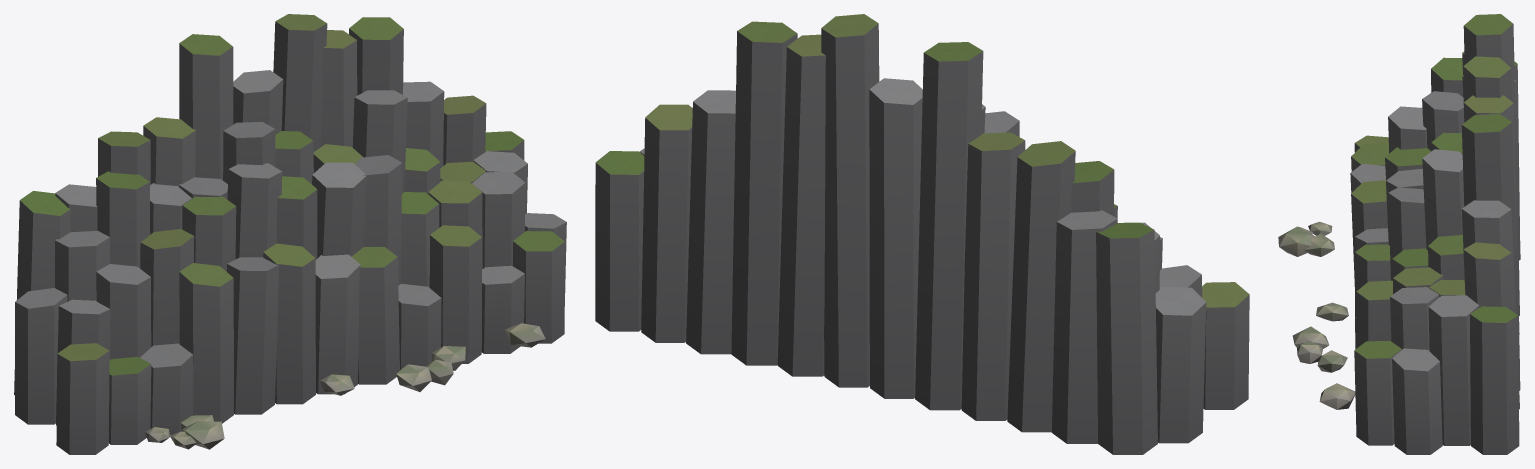
Rendered from basalt_cliff_c.glb.
3 renders of one model, left to right at view 1: azimuth 30°, elevation 25°; view 2: azimuth 150°, elevation 25°; view 3: azimuth 270°, elevation 25°, orthographic. The views are drawn at different scales.
Visible parts, largest first — view 1: basalt_cliff_c; view 2: basalt_cliff_c; view 3: basalt_cliff_c.
Boxes of the visible parts, x1,y1,x2,y2 form: basalt_cliff_c: [14, 14, 566, 454]; basalt_cliff_c: [595, 14, 1249, 454]; basalt_cliff_c: [1278, 14, 1520, 454].
Size of the model in its own units: 7.8 by 4.53 by 3.42.
